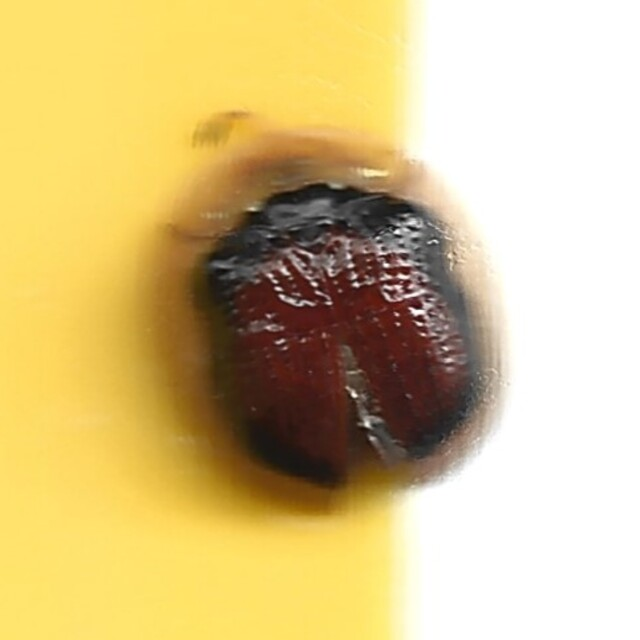Coleoptera: (133, 119, 507, 521)
